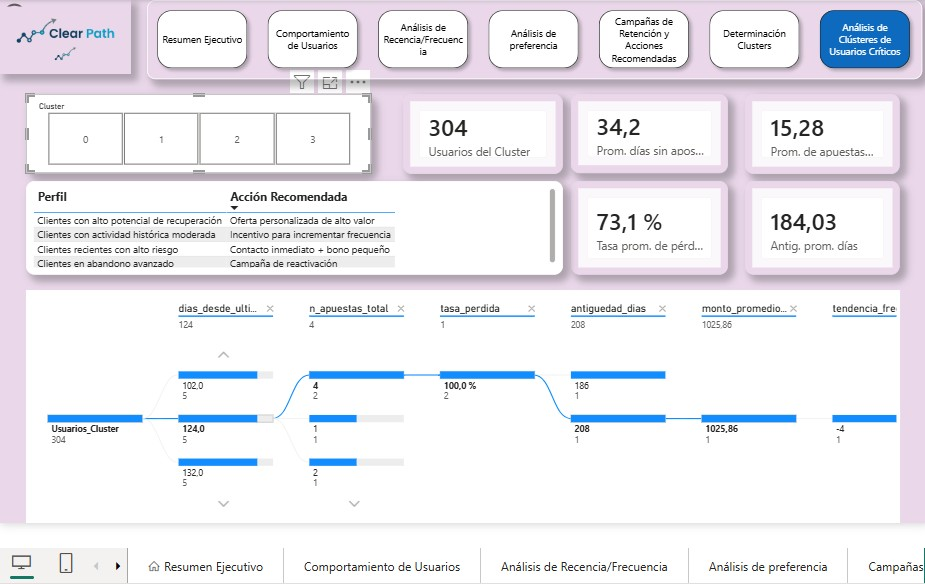

This screenshot's page, from the dashboard's own definition file:
{"tool":"powerbi","page":{"name":"Análisis de Clústeres de Usuarios Críticos","canvas":[1280,720],"ordinal":6},"visuals":[{"type":"slicer","fields":{"Values":["Dim_Cluster.Cluster"]},"box":[35.8,129.4,474.8,108.7],"z":0},{"type":"actionButton","box":[0,0,100,40],"z":1000},{"type":"pageNavigator","box":[202.3,0,1066.7,108.7],"z":2000},{"type":"cardVisual","title":"Usuarios del Cluster","fields":{"Data":["Cluster_Criticos.Usuarios_Cluster"]},"box":[554.7,129.4,220.2,110.1],"z":3000},{"type":"cardVisual","title":"Promedio días sin apostar","fields":{"Data":["Avg(churn.dias_desde_ultima_apuesta)"]},"box":[785.9,129.4,216.1,108.7],"z":4000},{"type":"cardVisual","fields":{"Data":["Avg(churn.n_apuestas_total)"]},"box":[1025.4,129.4,213.3,110.1],"z":5000},{"type":"cardVisual","fields":{"Data":["Avg(churn.tasa_perdida)"]},"box":[785.9,249.1,216.1,129.4],"z":6000},{"type":"cardVisual","fields":{"Data":["Avg(churn.antiguedad_dias)"]},"box":[1025.4,249.1,213.3,129.4],"z":7000},{"type":"tableEx","fields":{"Values":["Dim_Cluster.Perfil","Dim_Cluster.Acción Recomendada"]},"box":[35.8,249.1,739.1,129.4],"z":8000},{"type":"image","box":[0,0,180.3,101.8],"z":9000},{"type":"textbox","box":[149,401,662,150],"z":10000},{"type":"decompositionTreeVisual","fields":{"Analyze":["Cluster_Criticos.Usuarios_Cluster"],"ExplainBy":["churn.dias_desde_ultima_apuesta","churn.n_apuestas_total","churn.tasa_perdida","churn.antiguedad_dias","churn.monto_promedio_apostado","churn.tendencia_frecuencia","churn.monto_total_depositado"]},"box":[35.8,399.1,1202.9,320.7],"z":11000}]}

Visuals, with their boxes on the page's 1280x720 design canvas (x1, y1, x2, y2). These are canvas units, not pixel positions in the 925x584 screenshot, which may show the page scaled, cropped or inside an application window:
slicer - Dim_Cluster.Cluster: locate(36, 129, 511, 238)
actionButton: locate(0, 0, 100, 40)
pageNavigator: locate(202, 0, 1269, 109)
"Usuarios del Cluster" cardVisual: locate(555, 129, 775, 240)
"Promedio días sin apostar" cardVisual: locate(786, 129, 1002, 238)
cardVisual - Avg(churn.n_apuestas_total): locate(1025, 129, 1239, 240)
cardVisual - Avg(churn.tasa_perdida): locate(786, 249, 1002, 378)
cardVisual - Avg(churn.antiguedad_dias): locate(1025, 249, 1239, 378)
tableEx - Dim_Cluster.Perfil x Dim_Cluster.Acción Recomendada: locate(36, 249, 775, 378)
image: locate(0, 0, 180, 102)
textbox: locate(149, 401, 811, 551)
decompositionTreeVisual - Cluster_Criticos.Usuarios_Cluster x churn.dias_desde_ultima_apuesta: locate(36, 399, 1239, 720)
